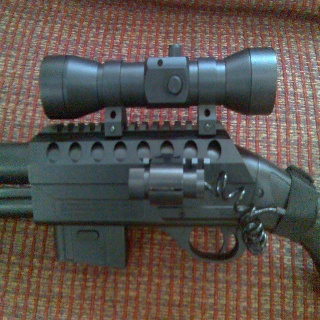rifle: (1, 43, 320, 275)
